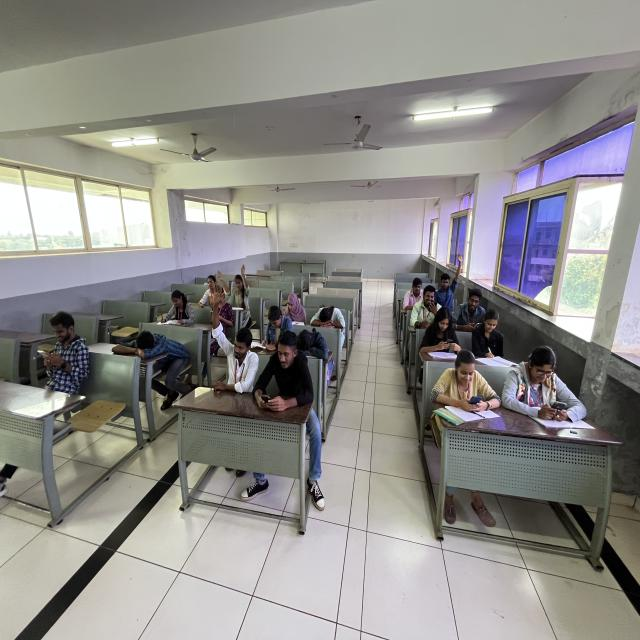Hand Rising: (205, 283, 259, 391), (433, 244, 466, 304), (229, 260, 258, 306), (199, 267, 232, 302)
Reading: (282, 289, 307, 326)
Sleeping: (113, 320, 186, 370), (309, 296, 347, 331), (295, 324, 333, 359)
Using Phone: (501, 339, 597, 437), (435, 348, 503, 432), (255, 328, 318, 414), (422, 303, 464, 355), (410, 278, 442, 320)
Writing: (469, 308, 521, 368), (155, 282, 199, 327), (253, 301, 294, 348)
